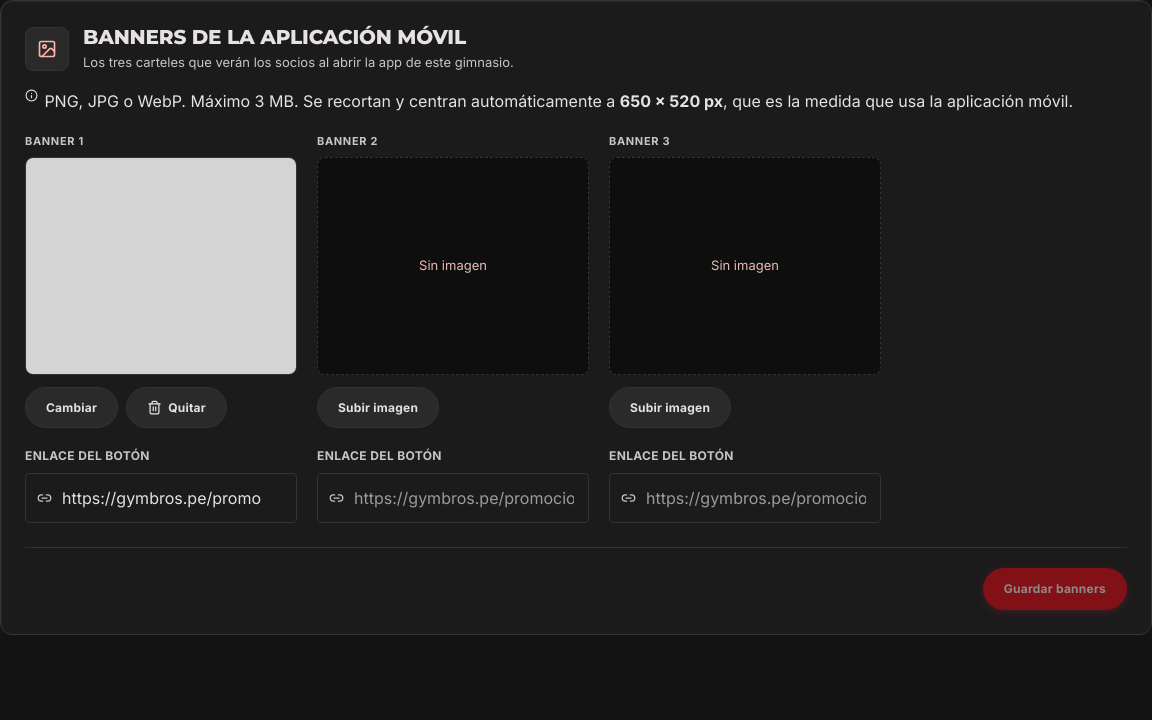
Test: EmpresaBanners › rechaza un enlace que no sea una URL completa
Replace the text in the field with id "banner-enlace-1" with "gymbros.pe/promo" at (161, 498), box [25,473,297,523]
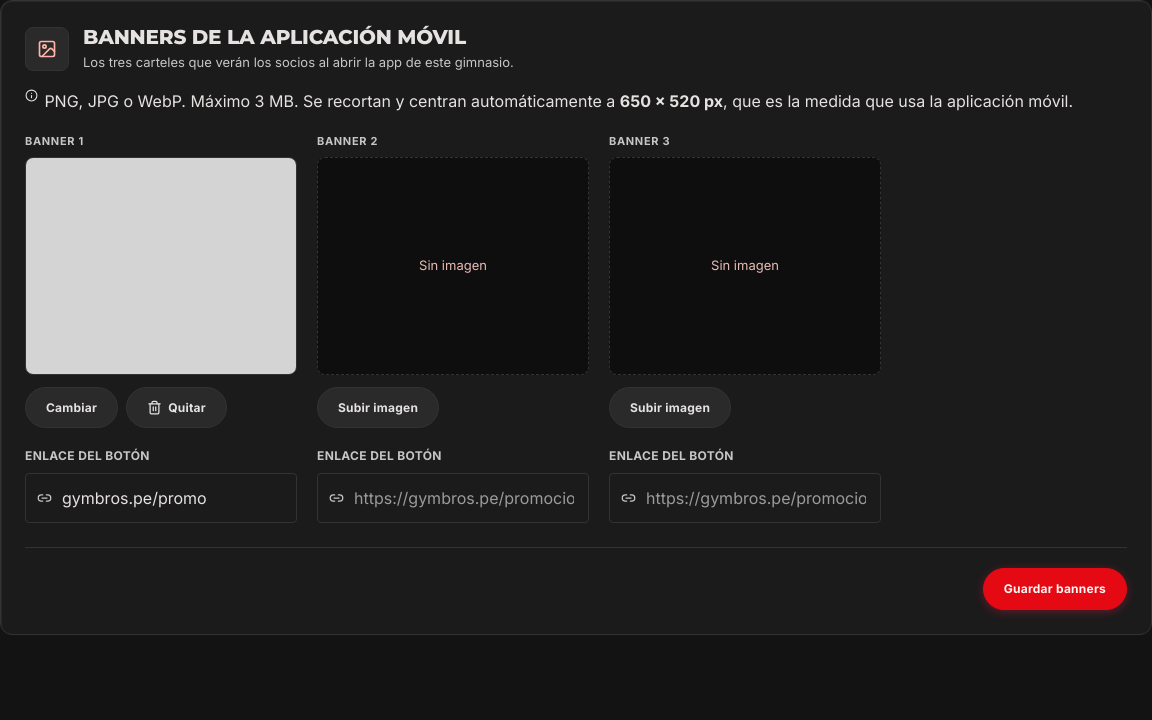
Click the button "Guardar banners" at (1055, 589), box [983,568,1127,610]
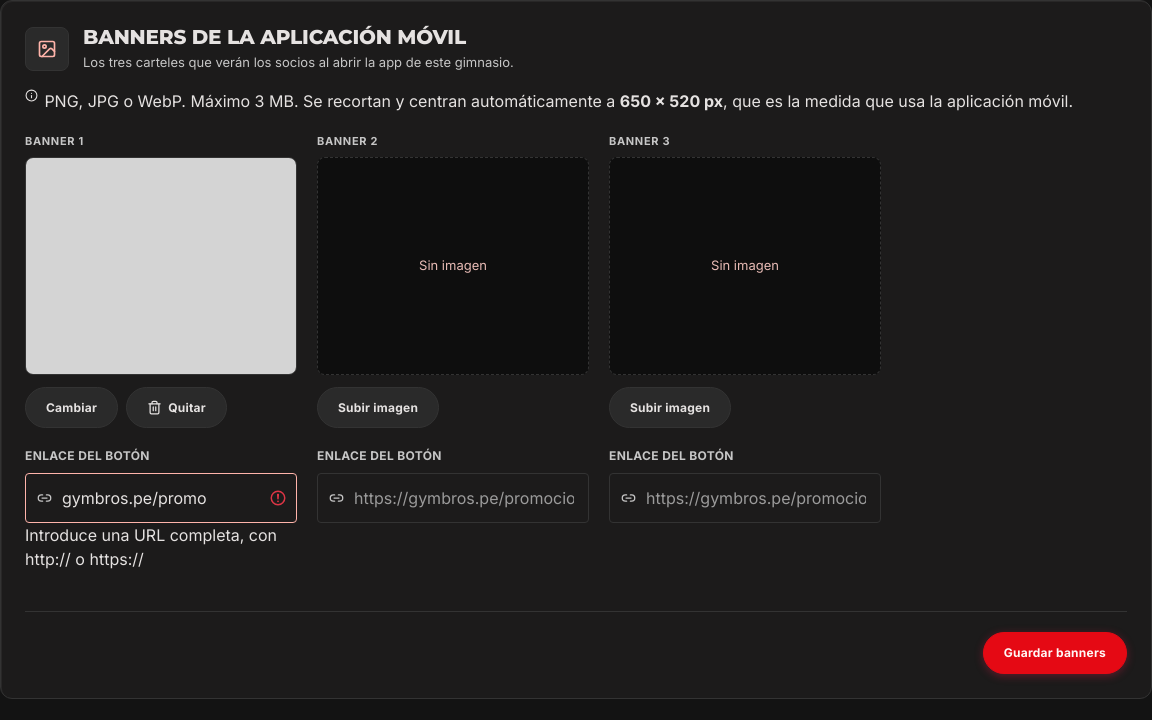
Check: the message with class "campo__error" shows "http://", box [25,525,277,569]
